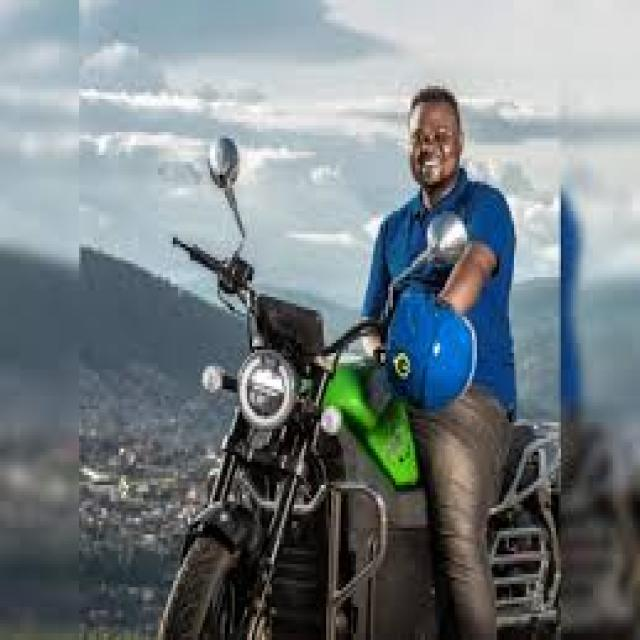Without Helmet: (400, 88, 478, 206)
